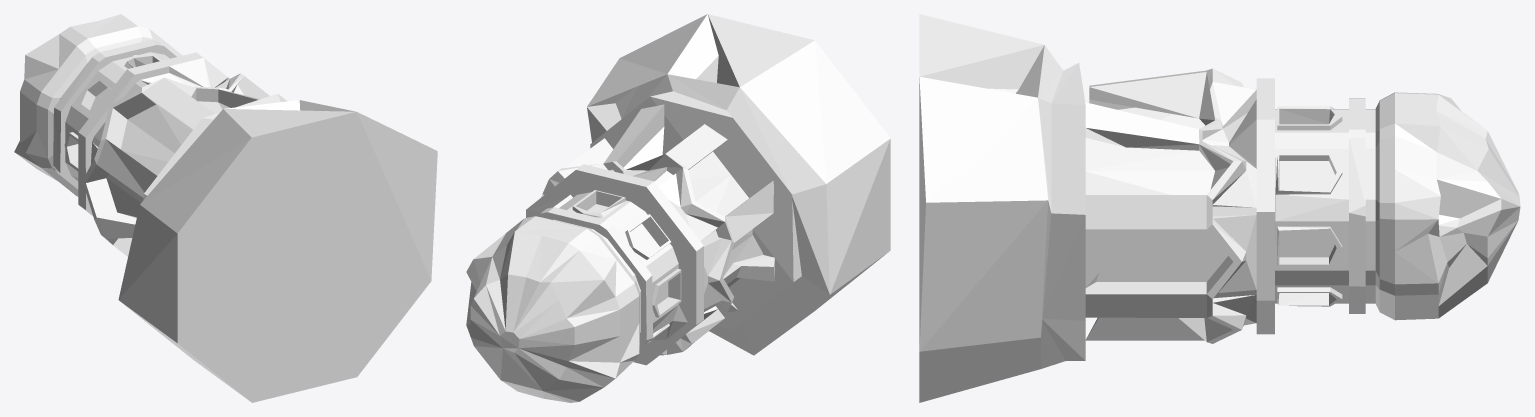
The model's file is venice_col_obj_0.fbx.
The picture shows the model from 3 angles, left to right: view 1: azimuth 30°, elevation 25°; view 2: azimuth 150°, elevation 25°; view 3: azimuth 270°, elevation 25°; orthographic projection. The views are drawn at different scales.
Visible parts, largest first — view 1: Cube.374; view 2: Cube.374; view 3: Cube.374.
Part boxes in pixels (<box>): Cube.374: <box>14,14,437,402</box>; Cube.374: <box>466,14,890,402</box>; Cube.374: <box>919,14,1520,402</box>.
Bounding box in the file's own units: 798 × 771 × 1287.
